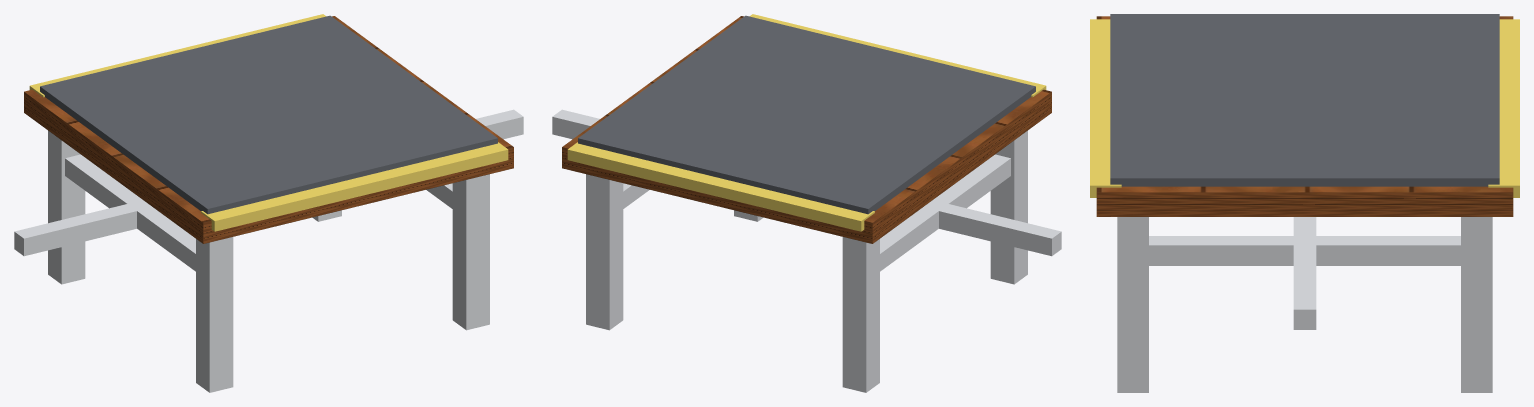
File: dog-agility-and-training-field-pause-table-703be3d4__35589.glb
3 renders of one model, left to right at view 1: azimuth 30°, elevation 25°; view 2: azimuth 150°, elevation 25°; view 3: azimuth 270°, elevation 25°, orthographic. The views are drawn at different scales.
Visible parts, largest first — view 1: pause-table-charcoal, pause-table-steel, pause-table-timber, pause-table-sunflower; view 2: pause-table-charcoal, pause-table-steel, pause-table-timber, pause-table-sunflower; view 3: pause-table-charcoal, pause-table-steel, pause-table-timber, pause-table-sunflower.
Part boxes in pixels (box(x1,y1,x2,y2)): pause-table-charcoal: box(40, 15, 497, 214); pause-table-steel: box(14, 109, 523, 392); pause-table-timber: box(24, 16, 513, 243); pause-table-sunflower: box(29, 14, 508, 231); pause-table-charcoal: box(578, 15, 1035, 214); pause-table-steel: box(552, 109, 1061, 392); pause-table-timber: box(562, 16, 1051, 243); pause-table-sunflower: box(567, 14, 1046, 231); pause-table-charcoal: box(1110, 14, 1499, 186); pause-table-steel: box(1117, 217, 1492, 392); pause-table-timber: box(1096, 16, 1513, 216); pause-table-sunflower: box(1090, 19, 1519, 197).
Size of the model in its own units: 1.48 by 0.53 by 0.95.
4 materials, 1 textured.
